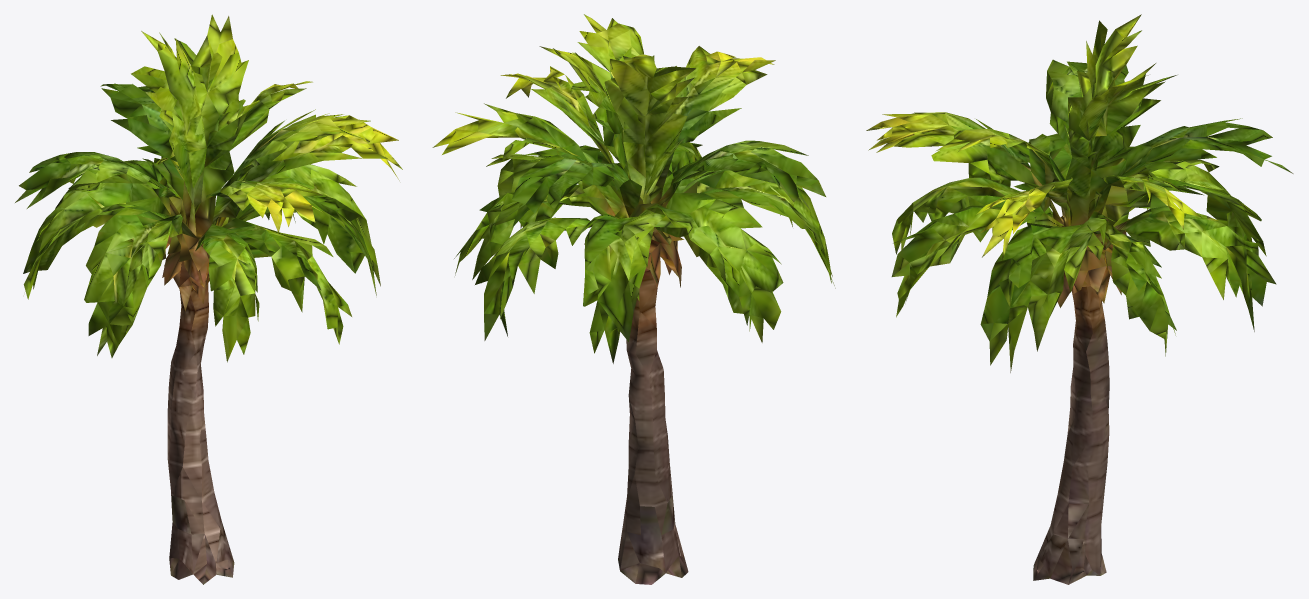
The model's file is palm-tree.glb.
3 renders of one model, left to right at view 1: azimuth 30°, elevation 25°; view 2: azimuth 150°, elevation 25°; view 3: azimuth 270°, elevation 25°, orthographic. The views are drawn at different scales.
Parts seen in each view (by area): view 1: PalmTree; view 2: PalmTree; view 3: PalmTree.
Part boxes in pixels (x1,y1,x2,y2): PalmTree: (15, 14, 402, 584); PalmTree: (432, 14, 835, 584); PalmTree: (866, 14, 1293, 584).
Bounding box in the file's own units: 1.31 × 1.9 × 1.35.
1 material, 1 textured.
